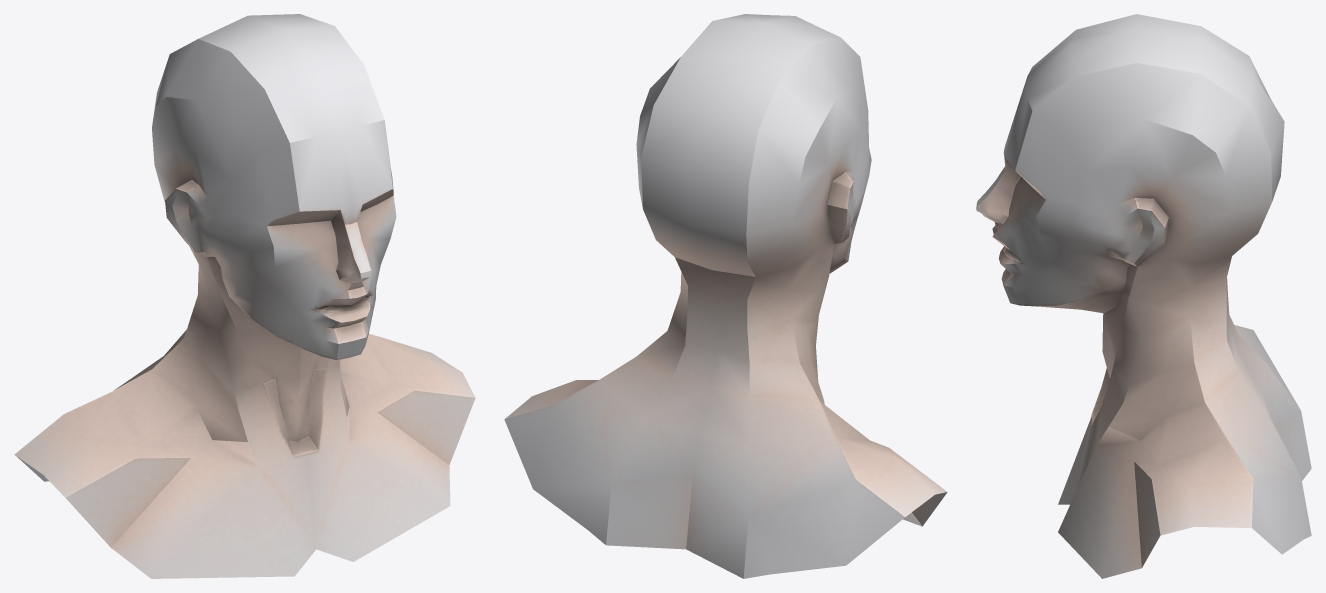
File: head.fbx
3 views of the same model, side by side, from view 1: azimuth 30°, elevation 25°; view 2: azimuth 150°, elevation 25°; view 3: azimuth 270°, elevation 25° (orthographic). The views are drawn at different scales.
Parts seen in each view (by area): view 1: bodyMesh.002; view 2: bodyMesh.002; view 3: bodyMesh.002.
Part boxes in pixels (left/top/right/bottom): bodyMesh.002: left=14, top=14, right=475, bottom=578; bodyMesh.002: left=504, top=14, right=947, bottom=578; bodyMesh.002: left=976, top=14, right=1311, bottom=578.
Size of the model in its own units: 30.93 by 35.96 by 22.33.
